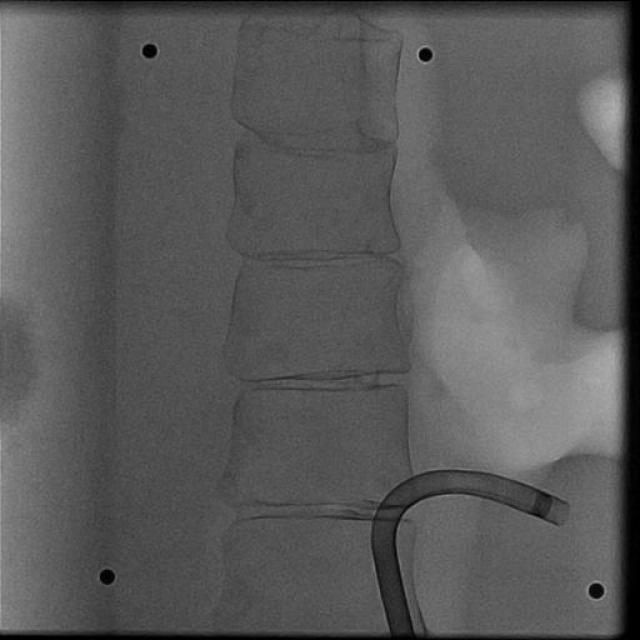bend: (371, 526, 395, 542)
entry: (387, 626, 413, 636)
marker: (534, 492, 552, 519)
tip: (556, 502, 570, 526)
